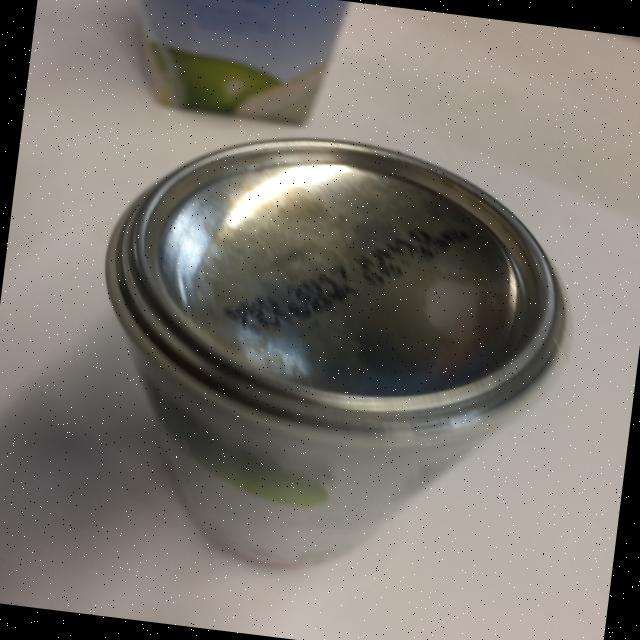metal: (69, 111, 586, 598)
